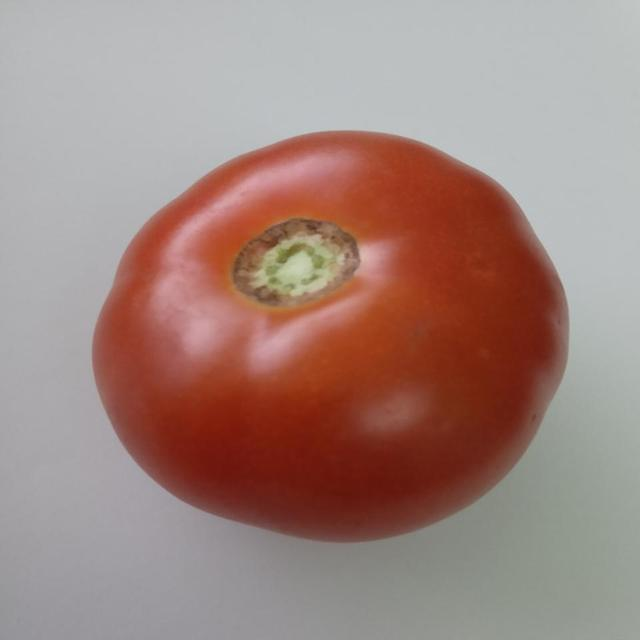Healthy Fruit: (55, 79, 387, 369)
